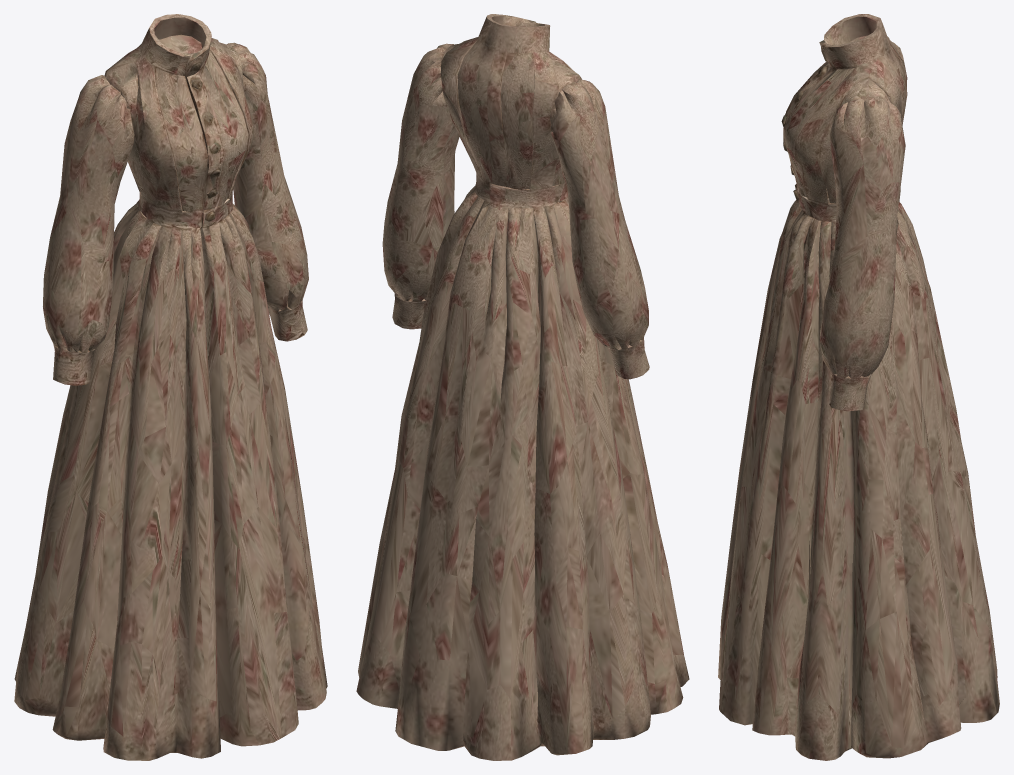
File: dress_floral.glb
3 views of the same model, side by side, from view 1: azimuth 30°, elevation 25°; view 2: azimuth 150°, elevation 25°; view 3: azimuth 270°, elevation 25° (orthographic).
Parts seen in each view (by area): view 1: dress_floral; view 2: dress_floral; view 3: dress_floral.
Part boxes in pixels (x1,y1,x2,y2): dress_floral: [14, 14, 327, 760]; dress_floral: [356, 14, 689, 760]; dress_floral: [718, 14, 999, 760].
Bounding box in the file's own units: 0.6668 × 1.55 × 0.5847.
1 material, 1 textured.
